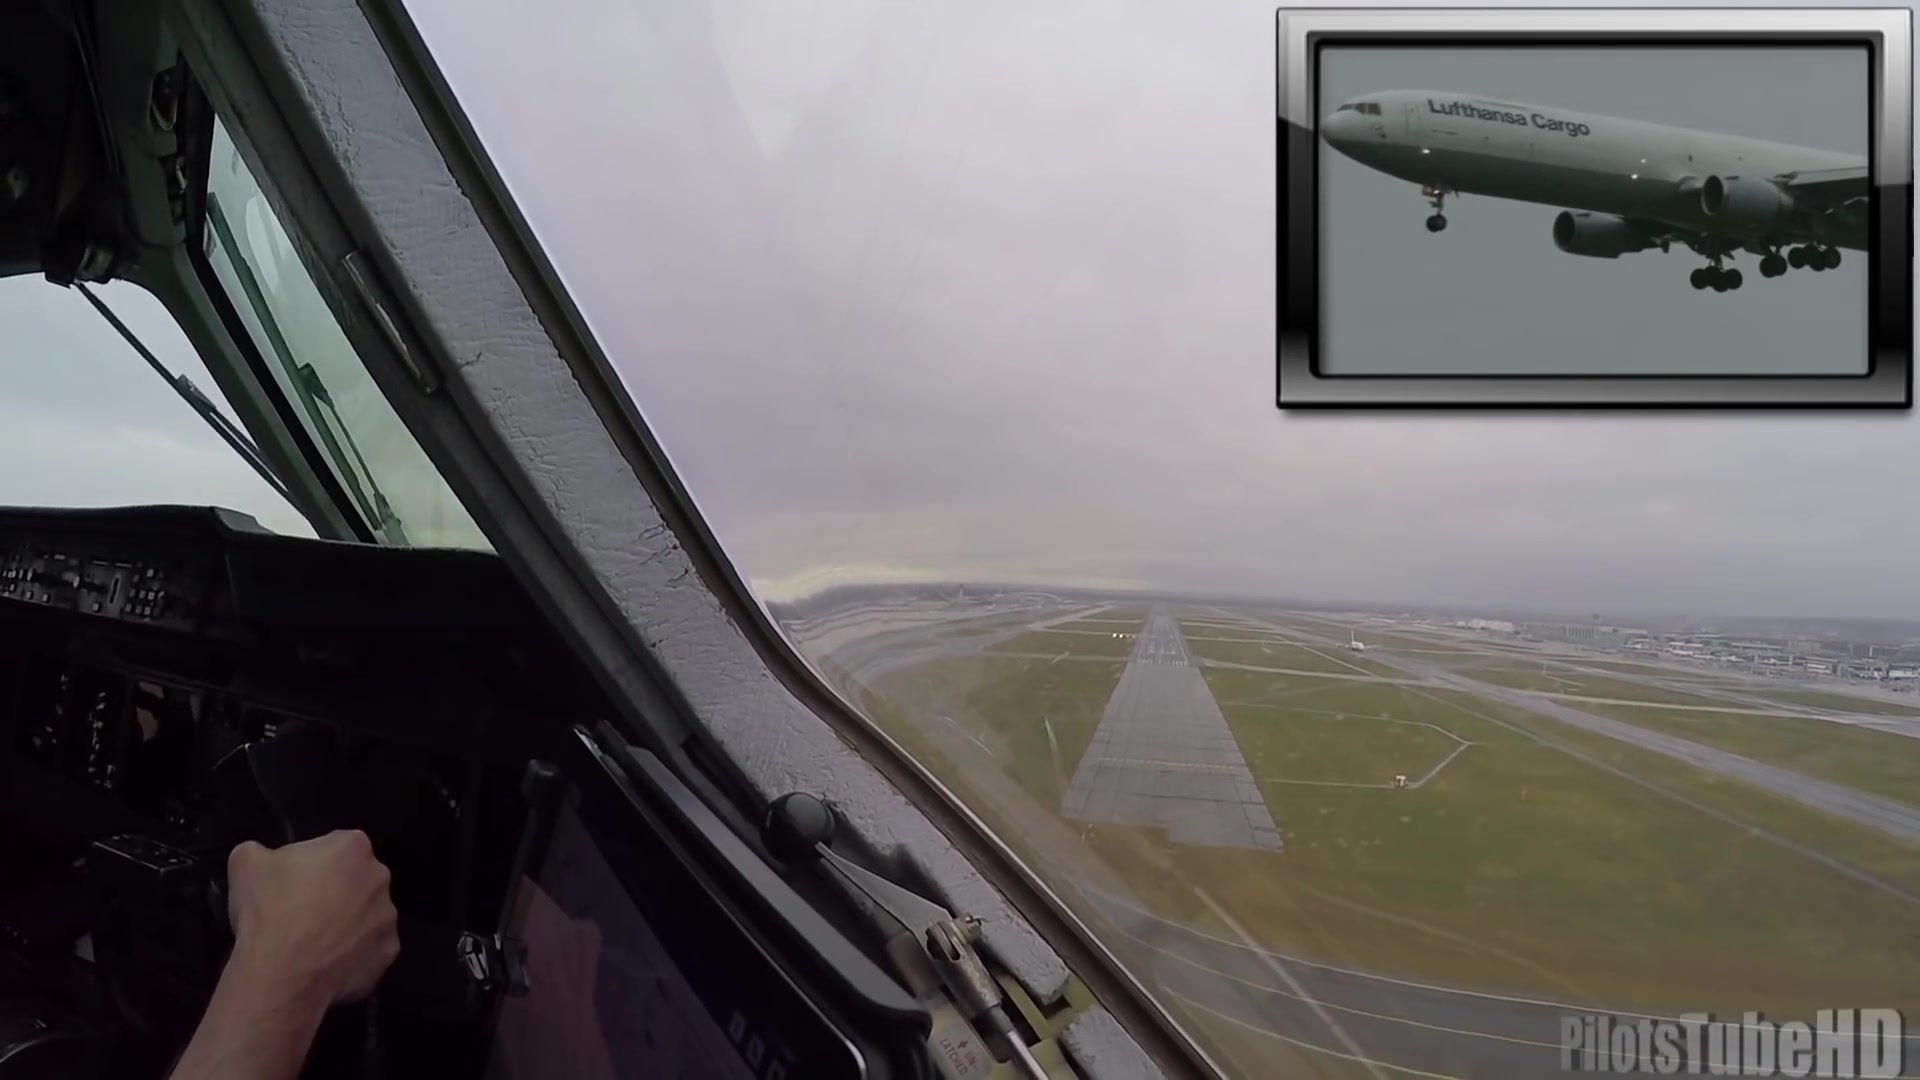entrance: (1134, 653, 1193, 671)
runway: (1058, 603, 1280, 852)
